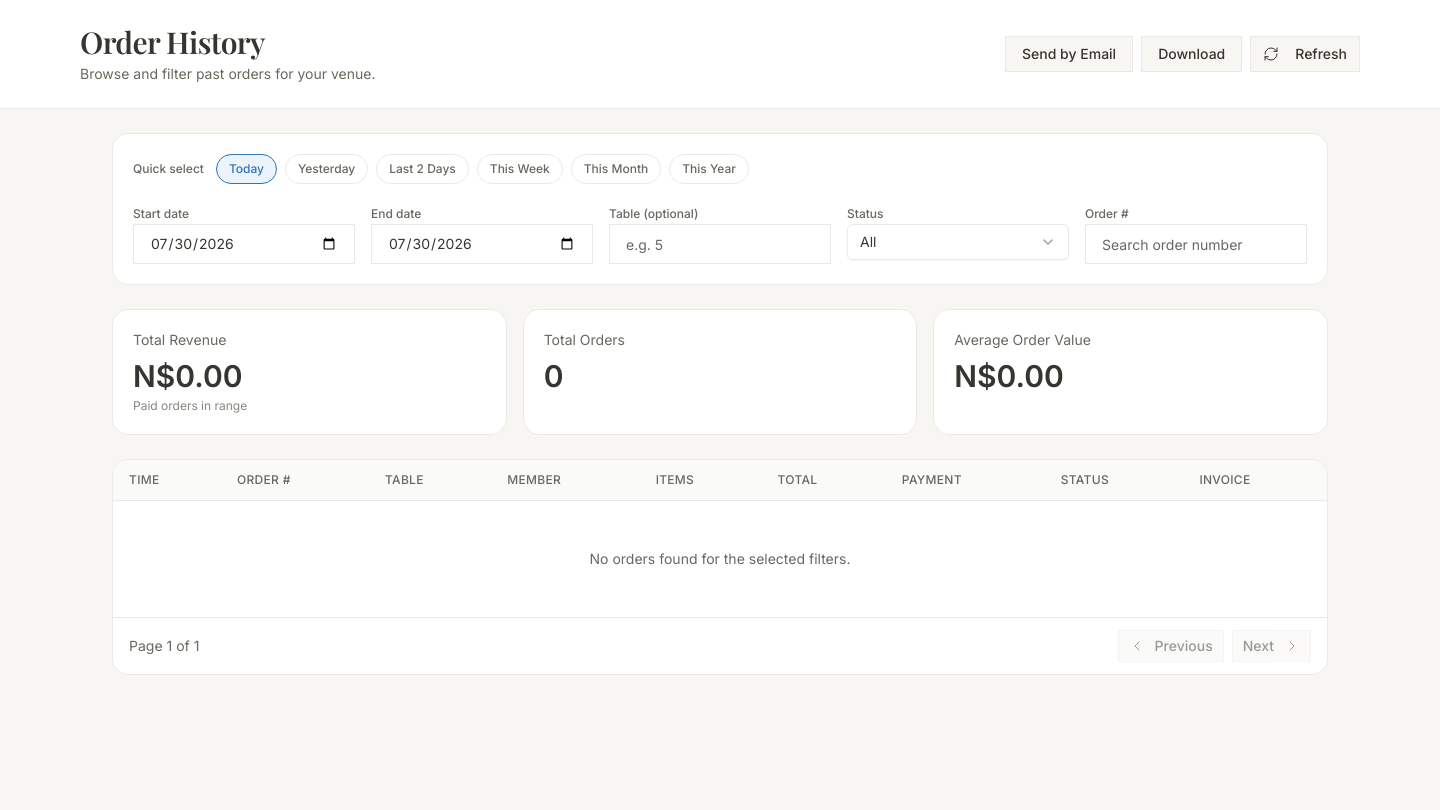
quick-select presets › Last 2 Days populates both fields and refreshes the results
Click the button "Last 2 Days" at (422, 169), box [376,154,469,184]
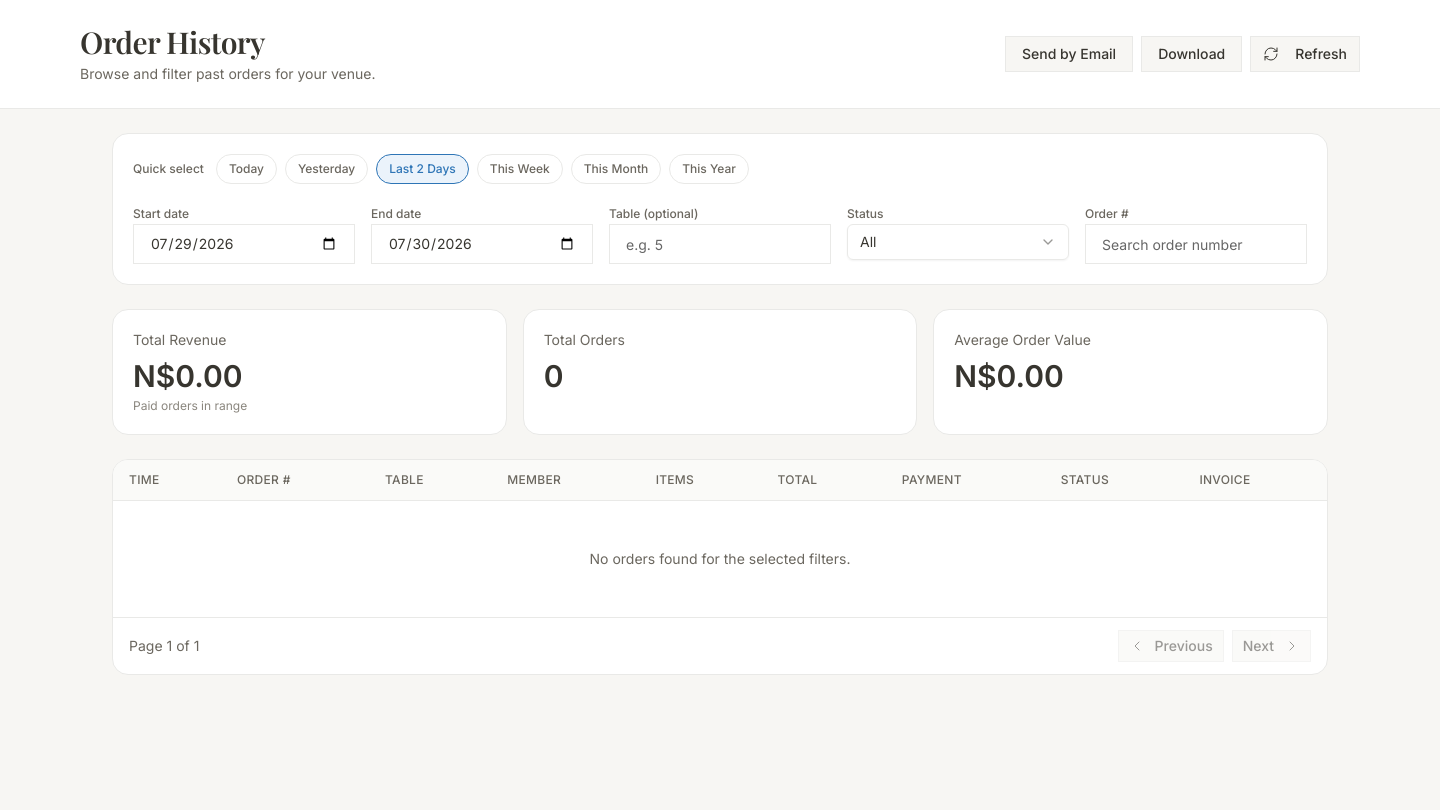
Expected: the date field below "End date" holds "2026-07-30", [371,224,593,264]
Now the date field below "Start date" holds "2026-07-29", box [133,224,355,264]
